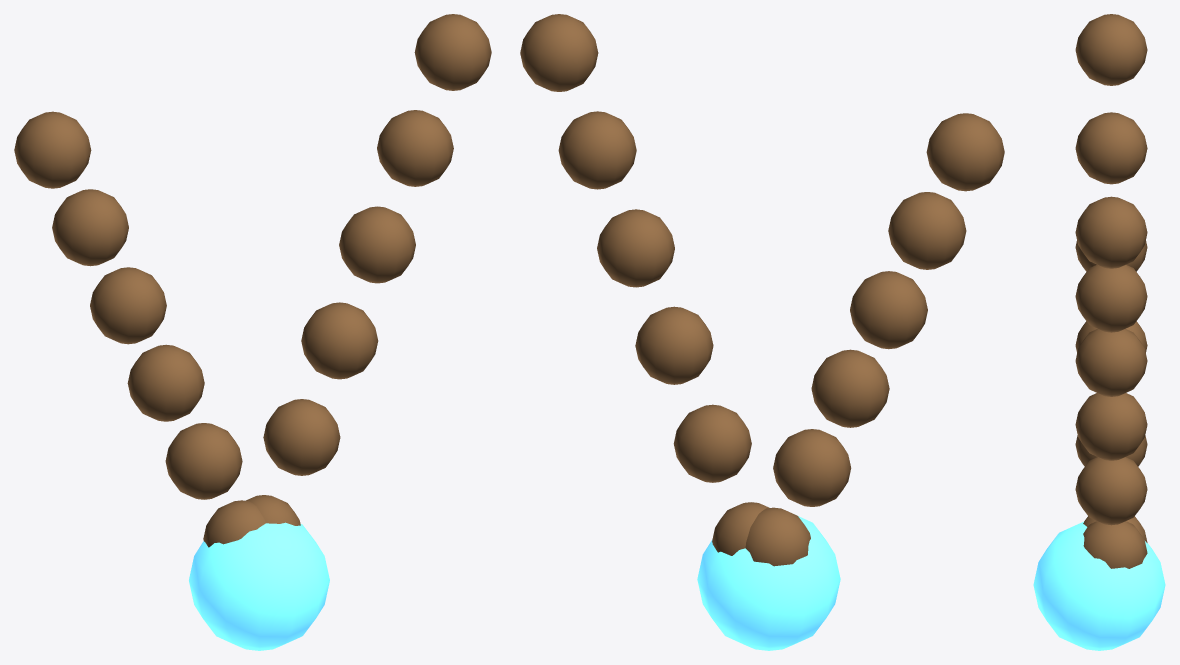
3 views of the same model, side by side, from view 1: azimuth 30°, elevation 25°; view 2: azimuth 150°, elevation 25°; view 3: azimuth 270°, elevation 25° (orthographic). The views are drawn at different scales.
Visible parts, largest first — view 1: spirit-rosary; view 2: spirit-rosary; view 3: spirit-rosary.
Part boxes in pixels (left/top/right/bottom): spirit-rosary: left=14, top=14, right=491, bottom=650; spirit-rosary: left=520, top=14, right=1004, bottom=650; spirit-rosary: left=1033, top=14, right=1165, bottom=650.
Bounding box in the file's own units: 0.2352 × 0.2758 × 0.0616.
